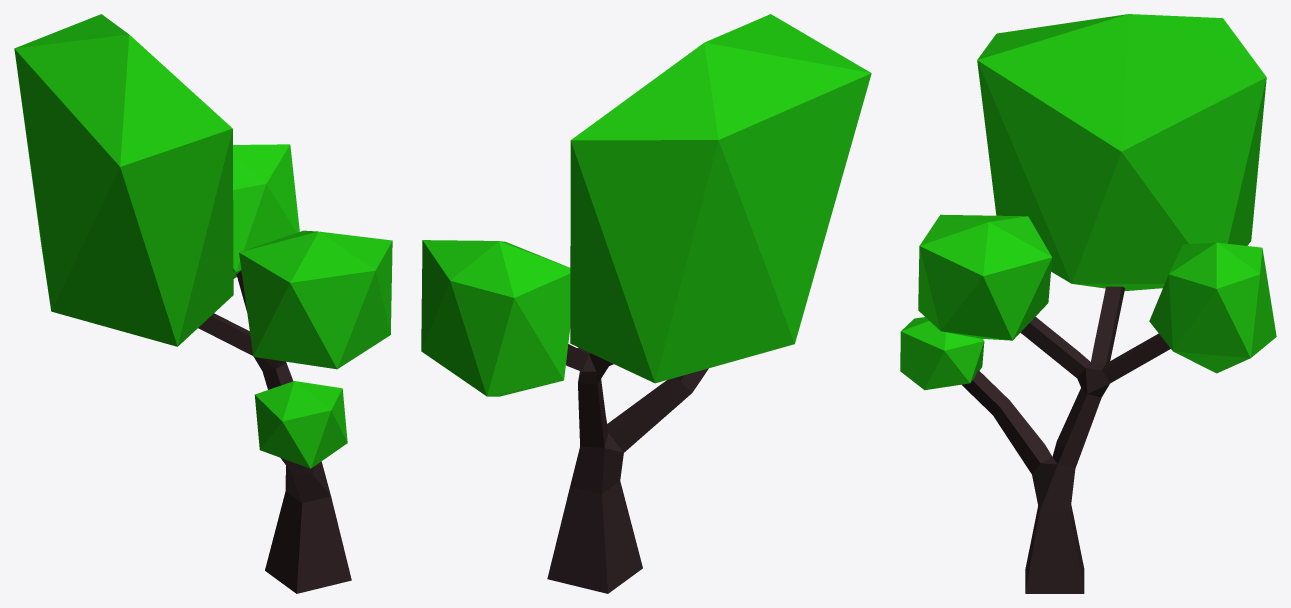
The model's file is dtree2B(F274).obj.
The picture shows the model from 3 angles, left to right: view 1: azimuth 30°, elevation 25°; view 2: azimuth 150°, elevation 25°; view 3: azimuth 270°, elevation 25°; orthographic projection. The views are drawn at different scales.
Visible parts, largest first — view 1: Icosphere.085, Icosphere.086, Cube.021, Icosphere.083, Icosphere.084; view 2: Icosphere.085, Icosphere.084, Cube.021; view 3: Icosphere.085, Cube.021, Icosphere.086, Icosphere.084, Icosphere.083.
Part boxes in pixels (x1,y1,x2,y2): Icosphere.085: [14, 14, 233, 346]; Icosphere.086: [239, 230, 392, 369]; Cube.021: [198, 270, 351, 593]; Icosphere.083: [254, 381, 347, 468]; Icosphere.084: [233, 144, 299, 278]; Icosphere.085: [570, 14, 871, 383]; Icosphere.084: [421, 240, 570, 396]; Cube.021: [547, 344, 708, 593]; Icosphere.085: [977, 14, 1266, 290]; Cube.021: [962, 286, 1170, 593]; Icosphere.086: [918, 214, 1052, 340]; Icosphere.084: [1149, 242, 1276, 373]; Icosphere.083: [900, 317, 984, 390].
Size of the model in its own units: 1.37 by 2.48 by 1.67.
